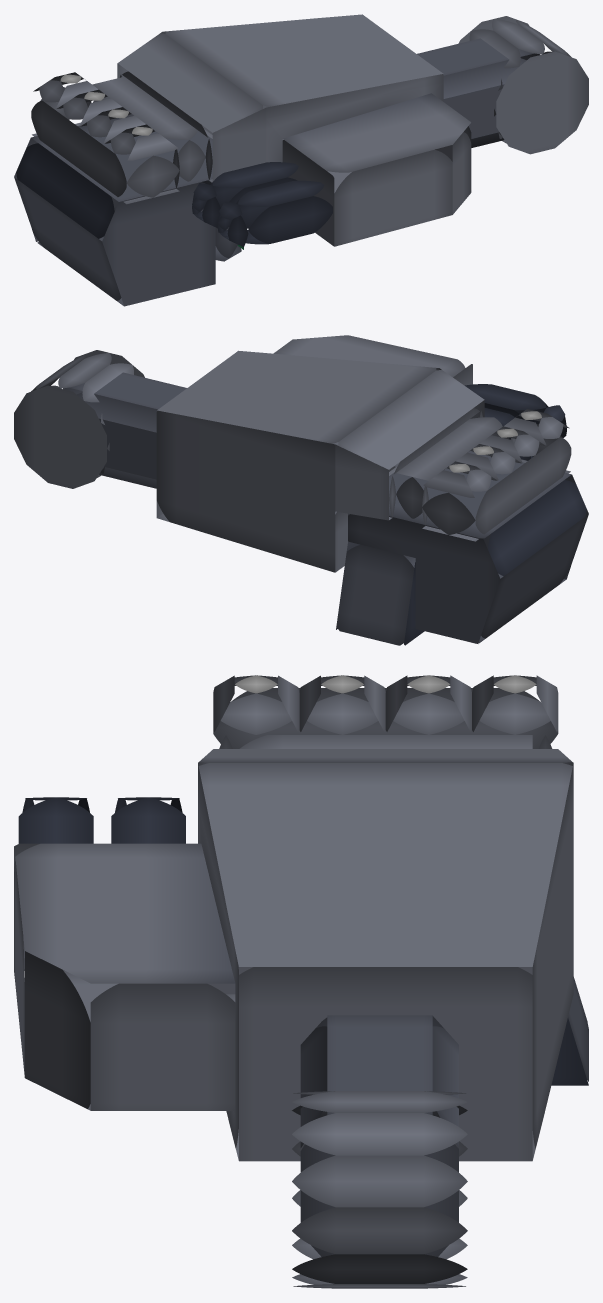
Rendered from Charge Left Arm.obj.
3 renders of one model, top to bottom at view 1: azimuth 30°, elevation 25°; view 2: azimuth 150°, elevation 25°; view 3: azimuth 270°, elevation 25°, orthographic. The views are drawn at different scales.
Parts seen in each view (by area): view 1: Forearm, cuboid, cylinder, Arm; view 2: Forearm, cuboid, cylinder, Arm; view 3: Forearm, cylinder, Arm, cuboid.
Boxes of the visible parts, box(x1,y1,x2,y2) form: Forearm: box(31, 14, 471, 246); cuboid: box(14, 114, 332, 306); cylinder: box(458, 16, 588, 154); Arm: box(417, 38, 539, 147); Forearm: box(156, 335, 571, 572); cuboid: box(336, 384, 588, 645); cylinder: box(14, 350, 144, 488); Arm: box(63, 372, 186, 488); Forearm: box(14, 675, 573, 1161); cylinder: box(292, 1091, 467, 1288); Arm: box(300, 1015, 458, 1256); cuboid: box(18, 797, 588, 1085).
Bounding box in the file's own units: 0.75 × 0.2563 × 0.4081.
1 material, 1 textured.
